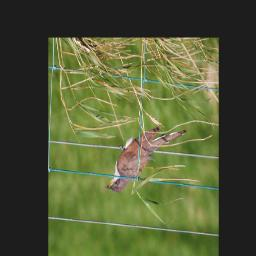Cuckoo: (104, 119, 189, 196)
